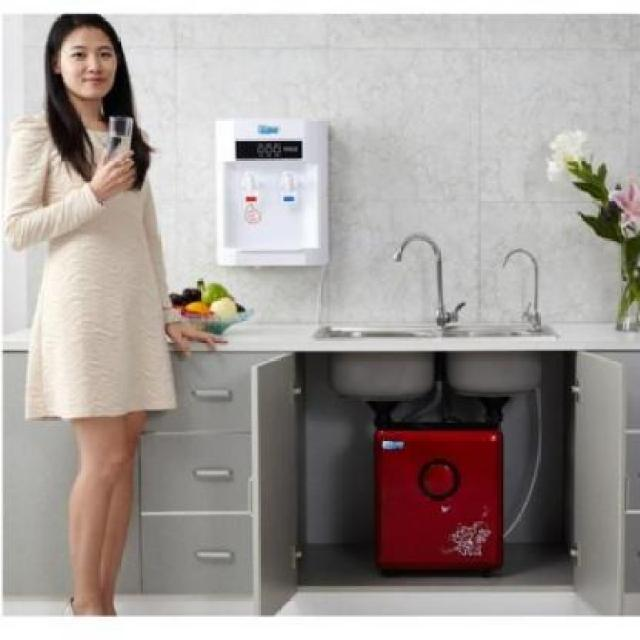cooler: (211, 112, 334, 272)
